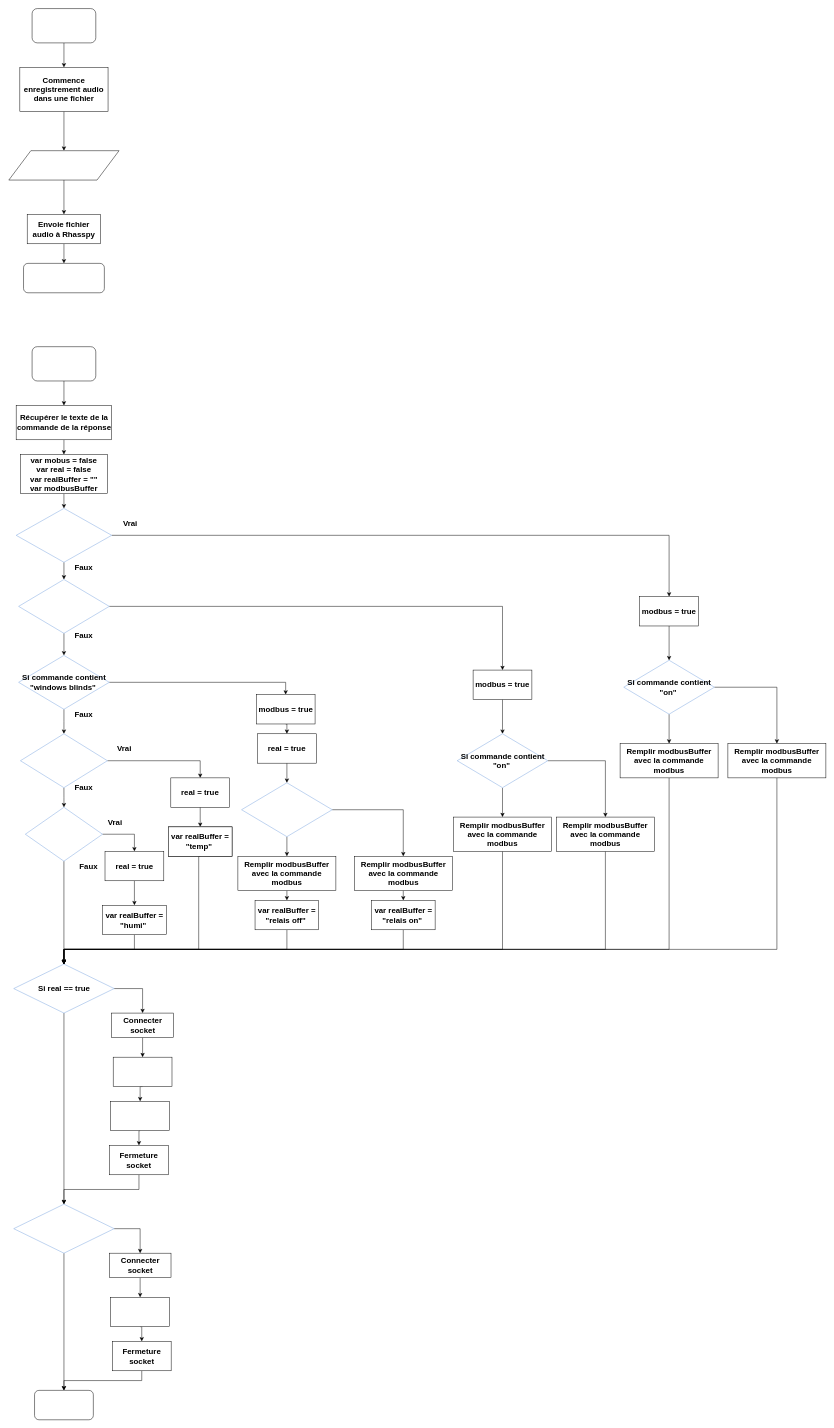
The diagram is 834 pixels wide and 1428 high, and some of its shapes have lost their labels. Each missing label, with the box of its shape:
Attente de réponse de Rhasspy: (23, 263, 104, 293)
Click "Record": (32, 8, 96, 43)
Click "Stop record": (8, 150, 119, 180)
Envoyer modbusBuffer à la ConnectIO: (110, 1297, 170, 1327)
Envoyer realBuffer à la RPI: (113, 1057, 172, 1087)
Fin fonction: (34, 1390, 93, 1420)
Reception réponse: (110, 1101, 170, 1131)
Reception réponse de Rhasspy: (32, 346, 96, 381)
Si commande contient "open": (241, 782, 332, 837)
Si commande contient "switch light": (16, 508, 112, 562)
Si commande contient "switch radiator": (18, 579, 109, 633)
Si commande contient "whats the humidity": (25, 807, 103, 861)
Si commande contient "whats the temperature": (20, 733, 107, 788)
Si modbus == true: (13, 1204, 114, 1253)
